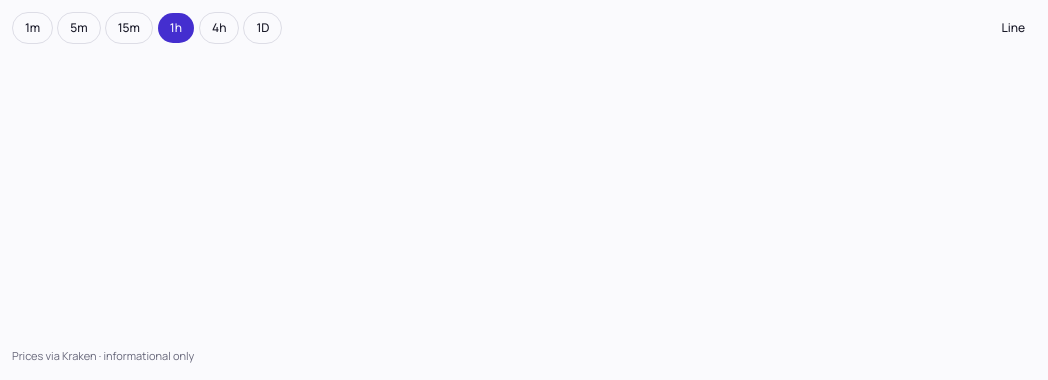
Test: PriceChart range switch › clears the series when the new range comes back empty, instead of leaving stale bars under the overlay
This screenshot has width=1048, height=380.
Step 1. Click the button "1D" → click(263, 28), box [243,12,282,44]
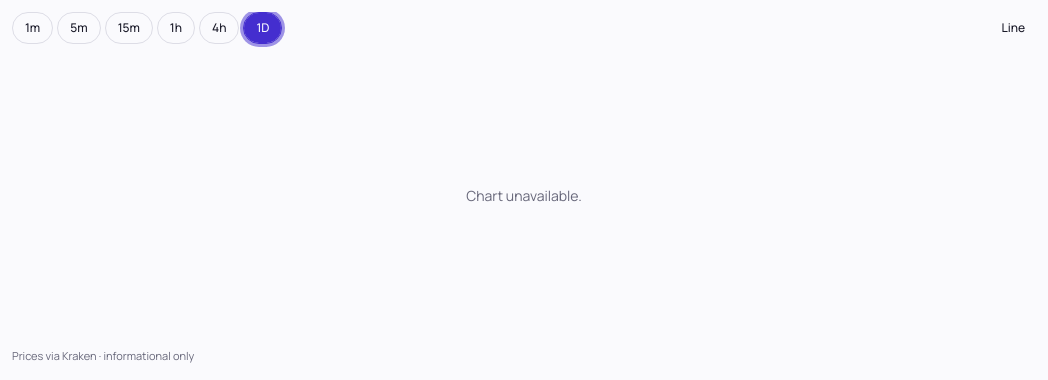
expect the text "Chart unavailable." is shown: met, box [466,186,582,205]
